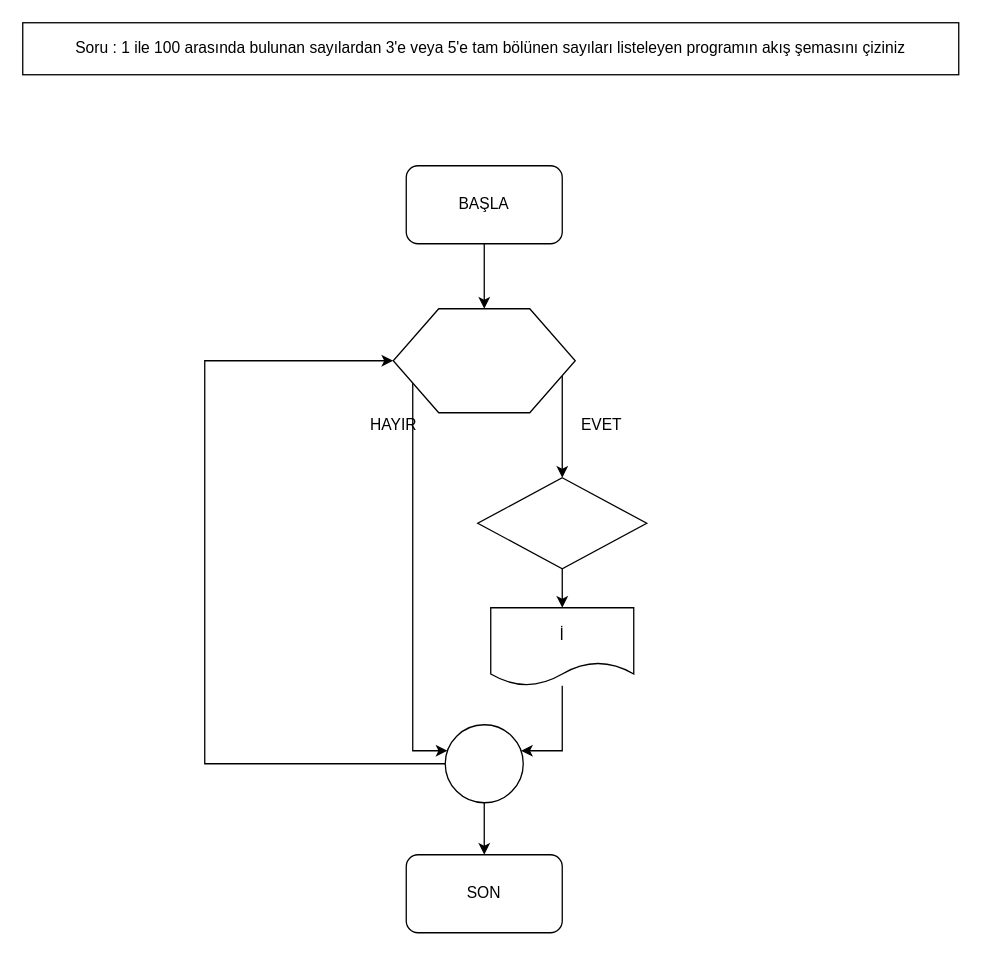
The diagram is 981 pixels wide and 955 high, and some of its shapes have lost their labels. The box of each missing label's shape, as (x1, y1, x2, y2) in pixels:
İ MOD 3 === 0 İ MOD 5 === 0: (476, 476, 647, 569)
İ=1, İ <= 100, 1: (392, 307, 575, 413)
